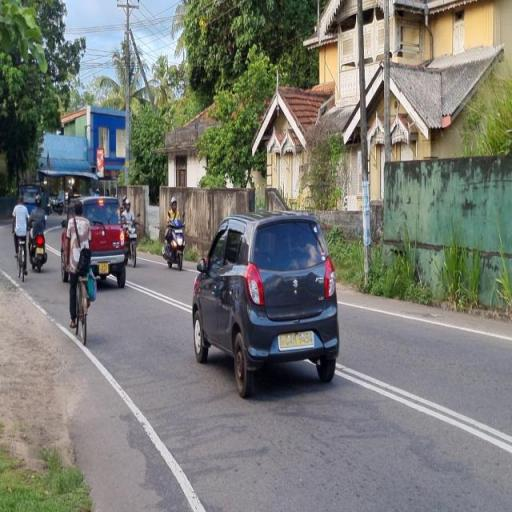double_white_line: (336, 361, 510, 455), (126, 282, 192, 314)
